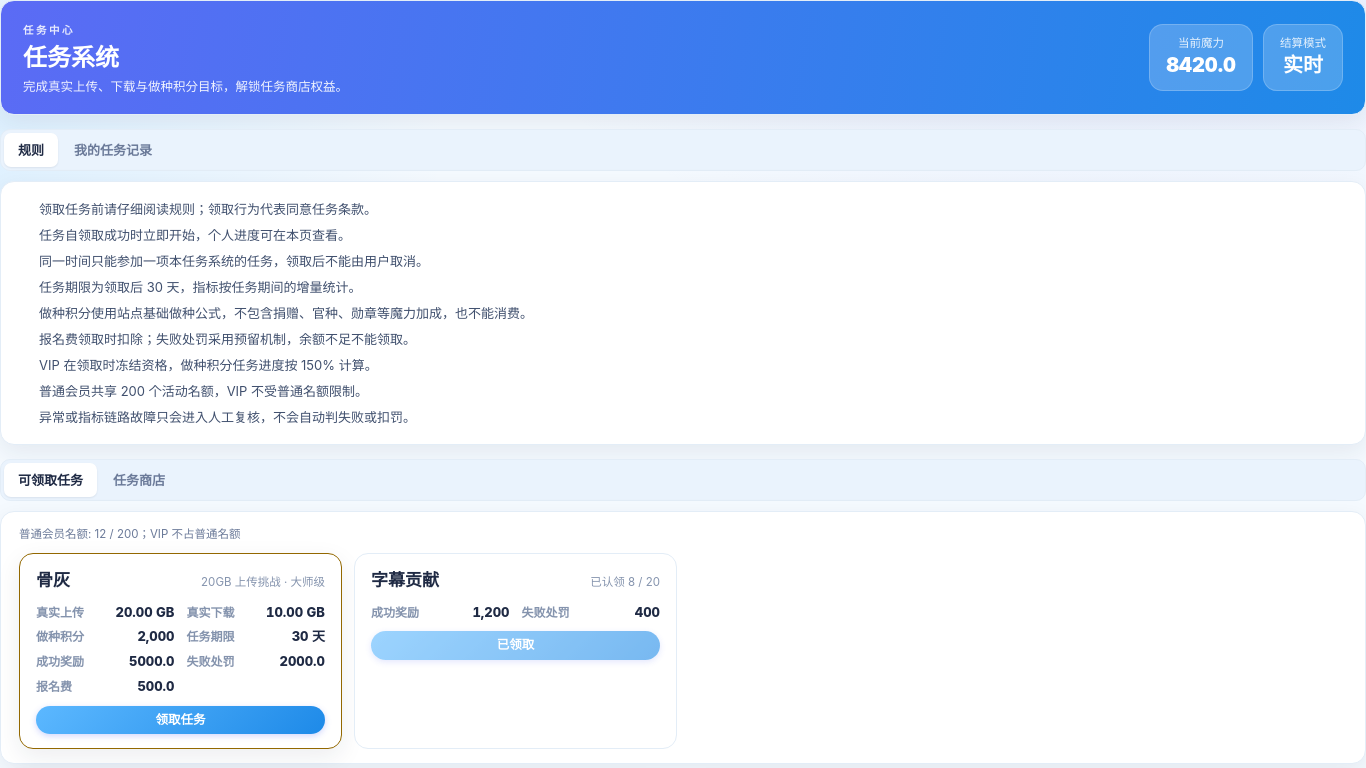
Test: 任务页两组标签 › 切到「任务商店」：商店卡进来、任务卡让位，且不影响另一组
The width and height of the screenshot is (1366, 768).
Expected: the text "20GB 上传挑战 · 大师级" is shown, [201, 574, 325, 591]
Step 1. Click the tab "任务商店" → click(139, 480), box [99, 463, 179, 497]
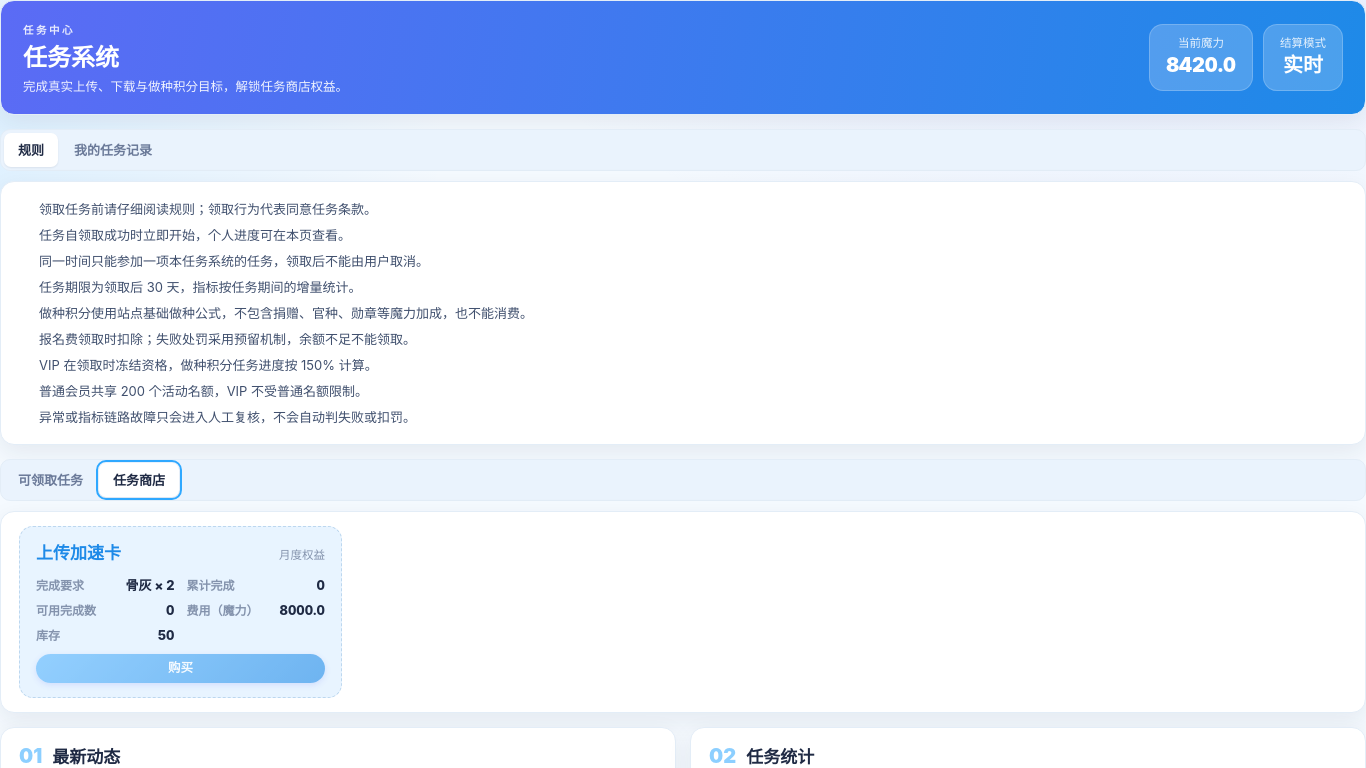
Expected: the list item "领取任务前请仔细阅读规则；领取行为代表同意任务条款。" is shown, [39, 201, 377, 217]
Expected: the heading "上传加速卡" is shown, [36, 541, 121, 566]
Expected: the text "20GB 上传挑战 · 大师级" is gone
